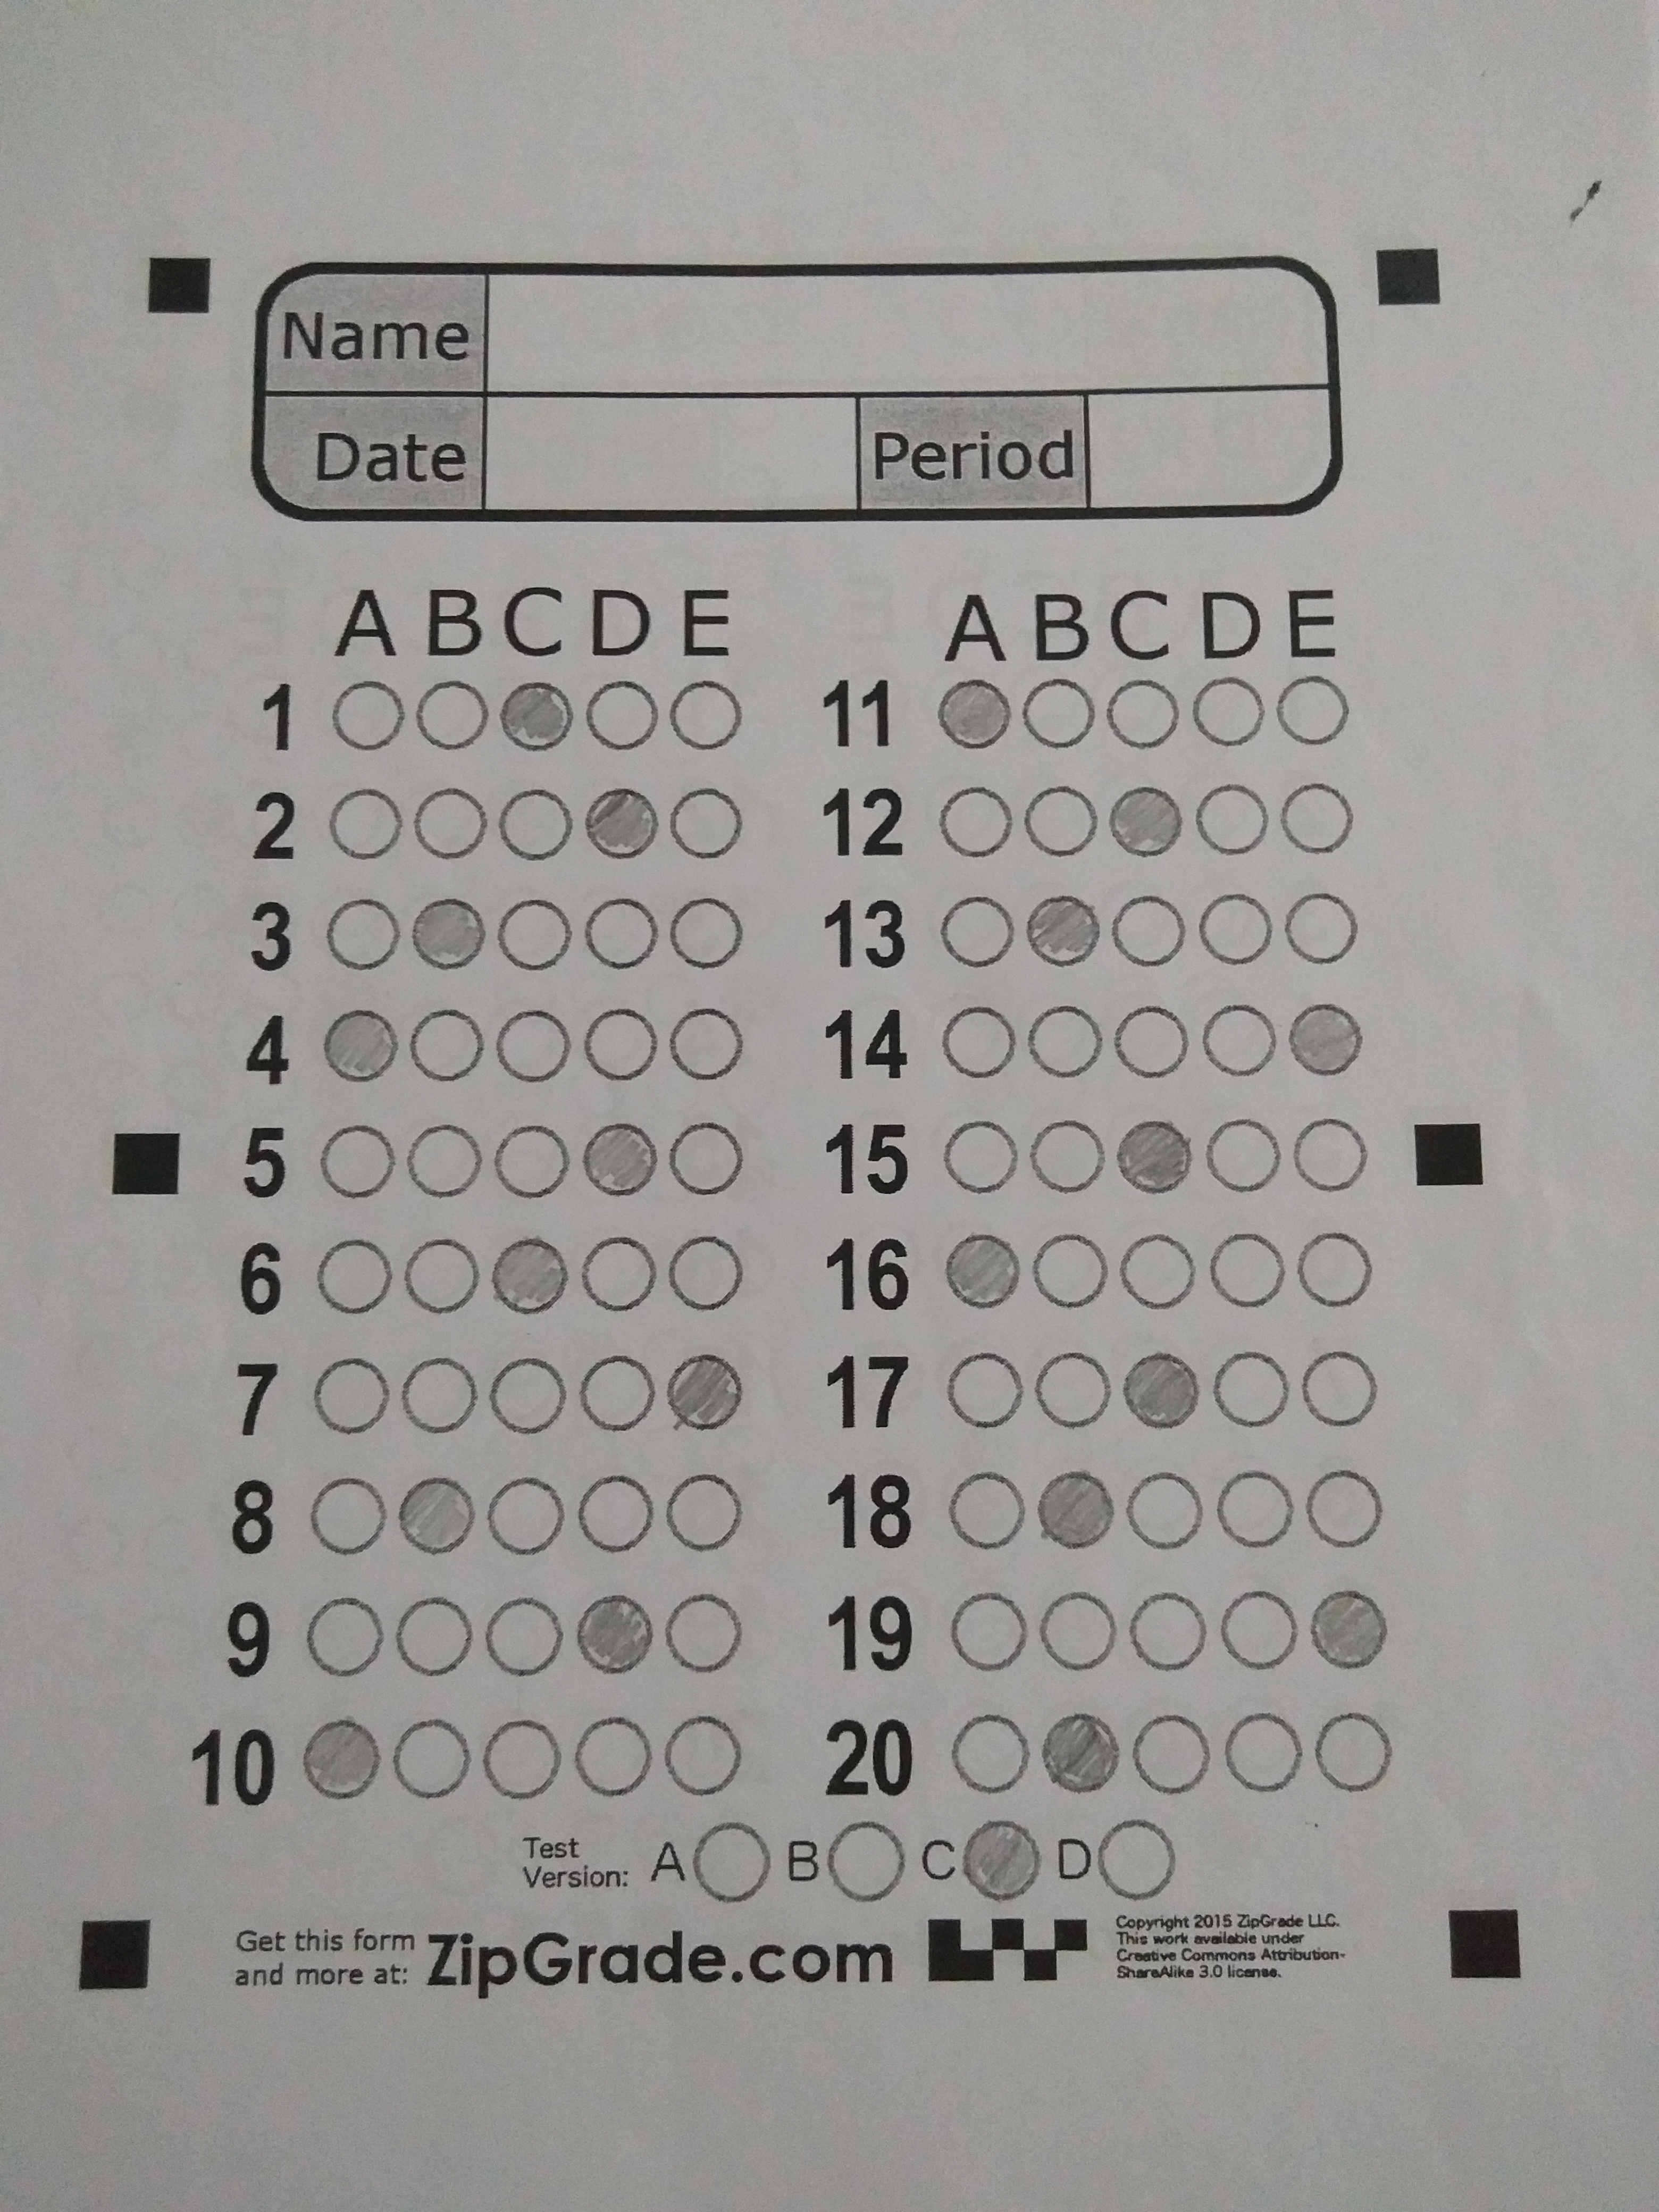not-c: (688, 1820, 777, 1907), (573, 1472, 660, 1557), (1094, 1817, 1182, 1902), (948, 1587, 1032, 1676), (321, 672, 411, 754), (948, 1710, 1033, 1796), (315, 1116, 399, 1204), (662, 1588, 746, 1674), (481, 1717, 566, 1801), (1305, 1463, 1389, 1548), (307, 1594, 389, 1679), (394, 1597, 479, 1679), (483, 1597, 568, 1679), (390, 1719, 476, 1801), (1127, 1588, 1209, 1674), (1225, 1710, 1303, 1799), (322, 780, 406, 862), (580, 1003, 662, 1087), (484, 1472, 566, 1555), (575, 1716, 657, 1799), (1297, 1350, 1380, 1432), (1211, 1348, 1295, 1430), (1291, 1115, 1375, 1197), (1131, 1712, 1211, 1797), (1122, 1468, 1208, 1548), (582, 894, 664, 975), (1314, 1712, 1396, 1794), (1037, 1590, 1119, 1672), (824, 1820, 908, 1900), (1218, 1588, 1298, 1672), (1117, 1231, 1201, 1312), (950, 1467, 1028, 1552), (312, 1353, 392, 1435), (577, 1355, 657, 1437), (308, 1475, 389, 1557), (664, 1474, 746, 1554), (662, 1716, 742, 1797), (1208, 1230, 1288, 1312), (1297, 1231, 1378, 1312), (1112, 1001, 1192, 1083), (666, 1233, 749, 1312), (1215, 1468, 1298, 1547), (669, 894, 746, 979), (401, 1237, 486, 1313), (666, 676, 746, 756), (579, 1231, 659, 1312), (1032, 1350, 1112, 1430), (406, 1005, 488, 1083), (667, 1005, 749, 1083), (404, 1122, 486, 1200), (491, 1123, 573, 1202), (948, 1350, 1026, 1432), (1025, 1001, 1107, 1080), (669, 1118, 746, 1202), (324, 892, 403, 972), (495, 895, 575, 974), (1199, 1001, 1277, 1082), (399, 1357, 481, 1433), (584, 676, 662, 754), (493, 1007, 572, 1085), (1281, 890, 1359, 968), (315, 1237, 396, 1313), (488, 1357, 568, 1433), (1192, 782, 1272, 859), (1108, 895, 1190, 970), (1025, 1118, 1108, 1191), (1204, 1115, 1283, 1191), (1279, 782, 1358, 859), (1272, 674, 1352, 749), (1032, 1233, 1108, 1310), (938, 786, 1016, 860), (1021, 674, 1100, 749), (948, 1118, 1021, 1198), (669, 782, 744, 859), (1197, 892, 1274, 967), (939, 894, 1016, 968), (415, 679, 493, 752), (1021, 786, 1100, 859), (1190, 678, 1269, 751), (411, 787, 491, 859), (497, 787, 575, 859), (943, 1003, 1018, 1076), (1105, 679, 1182, 747)
taken-c: (1303, 1585, 1392, 1676), (298, 1717, 383, 1803), (1037, 1710, 1122, 1796), (490, 1231, 572, 1320), (1117, 1348, 1202, 1432), (962, 1817, 1042, 1905), (394, 1472, 477, 1555), (1114, 1115, 1195, 1198), (939, 1231, 1025, 1312), (319, 1003, 403, 1083), (664, 1348, 744, 1432), (1035, 1468, 1115, 1552), (1284, 996, 1364, 1080), (575, 1590, 653, 1676), (1101, 782, 1183, 862), (408, 895, 488, 974), (582, 1118, 660, 1197), (934, 676, 1014, 751), (584, 782, 660, 859), (1025, 895, 1101, 972), (498, 678, 577, 752)
